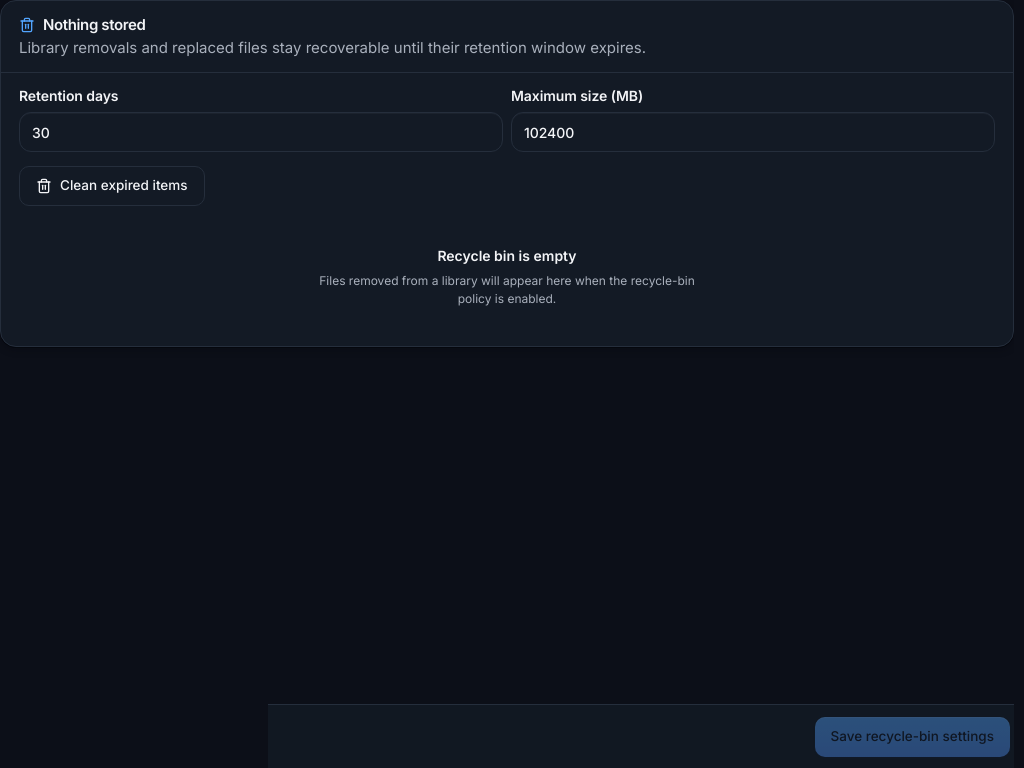
it: Recycle bin: the days kept and emptying what has expired › asks the server what an empty would take, lists it, and takes nothing until Empty them is pressed
The image size is (1024, 768).
Click the button "Clean expired items" at (112, 186), box [19,166,204,206]
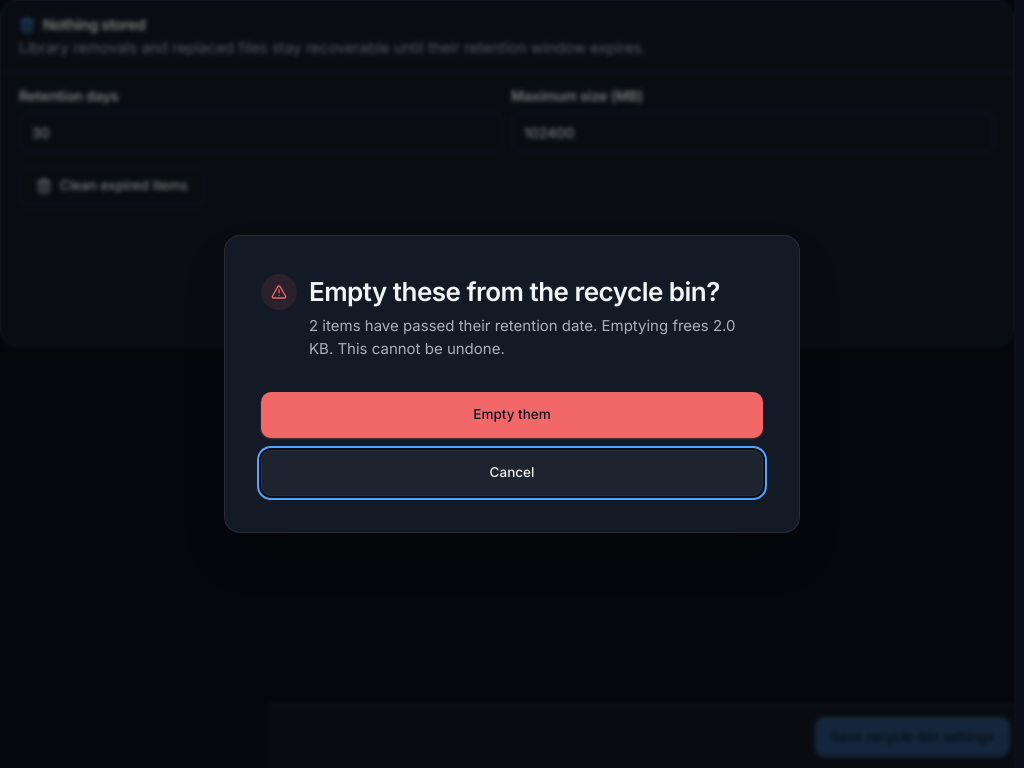
Result: the heading "Empty these from the recycle bin?" is shown at [309,272,763,311]
Click the button "Empty them" at (512, 415), box [261,392,763,438]
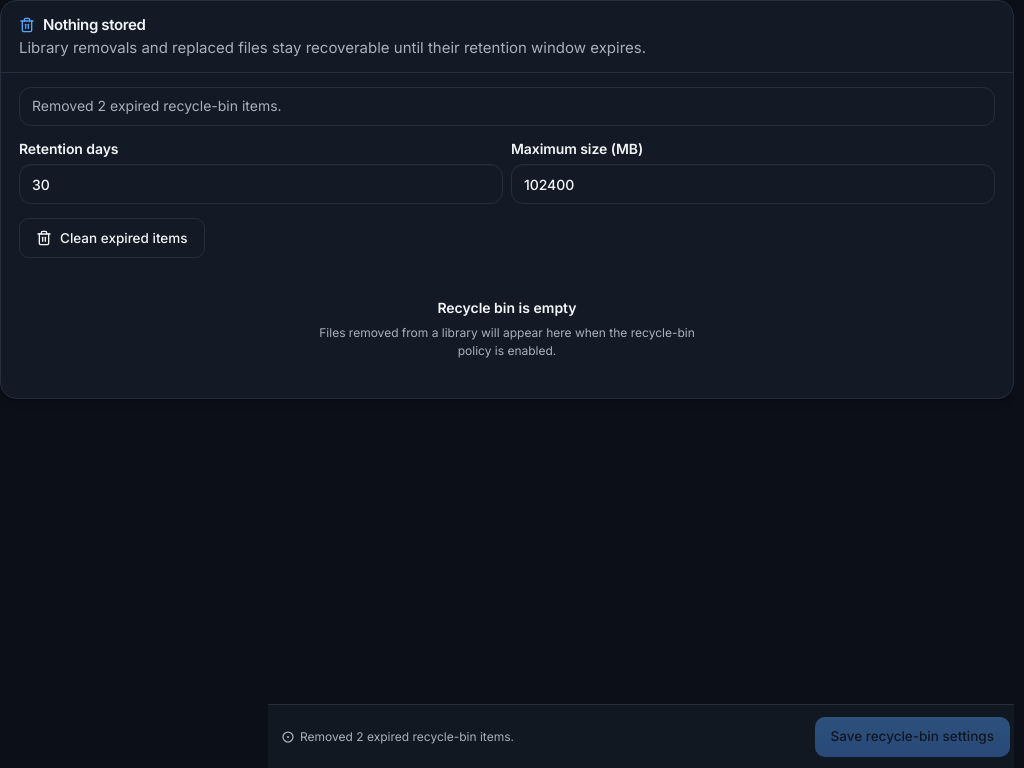
Result: the text "Removed 2 expired recycle-bin items." below "Nothing stored" is shown at [32,97,282,114]
